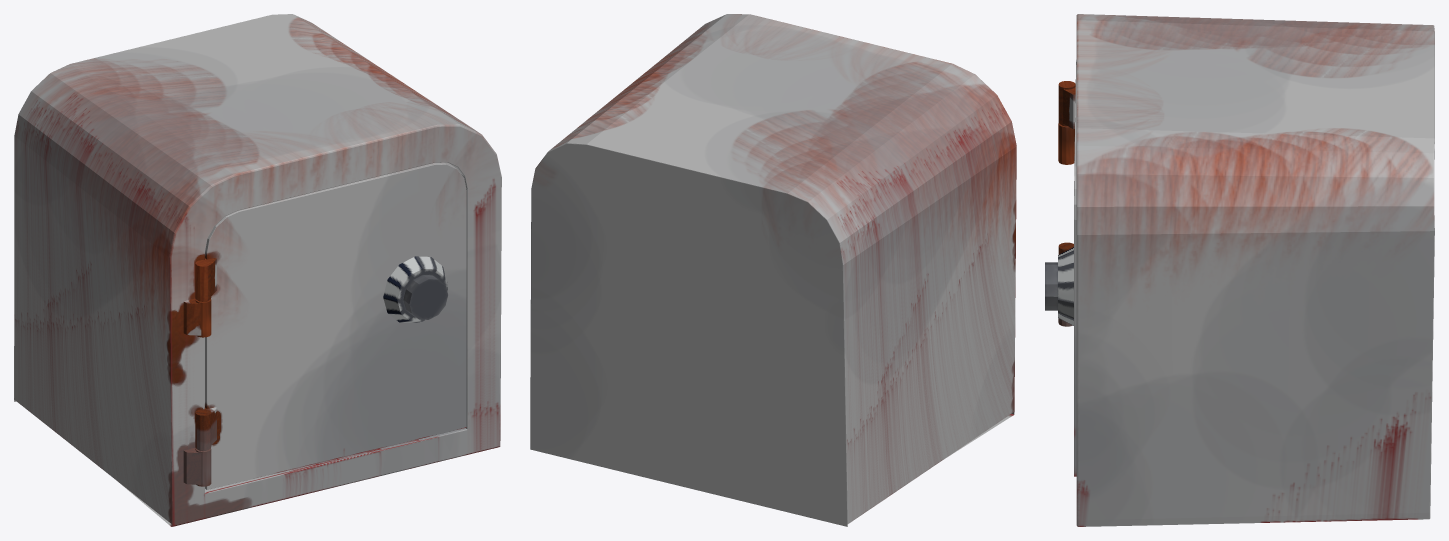
File: Seyf3.fbx
The picture shows the model from 3 angles, left to right: view 1: azimuth 30°, elevation 25°; view 2: azimuth 150°, elevation 25°; view 3: azimuth 270°, elevation 25°; orthographic projection. The views are drawn at different scales.
Visible parts, largest first — view 1: Cube.001, Cube.002; view 2: Cube.001; view 3: Cube.001, Cube.002.
Part boxes in pixels (x1,y1,x2,y2): Cube.001: (14, 14, 501, 526); Cube.002: (195, 162, 466, 489); Cube.001: (530, 14, 1016, 526); Cube.001: (1058, 14, 1434, 526); Cube.002: (1045, 60, 1076, 476).
Size of the model in its own units: 254 by 246 by 238.
